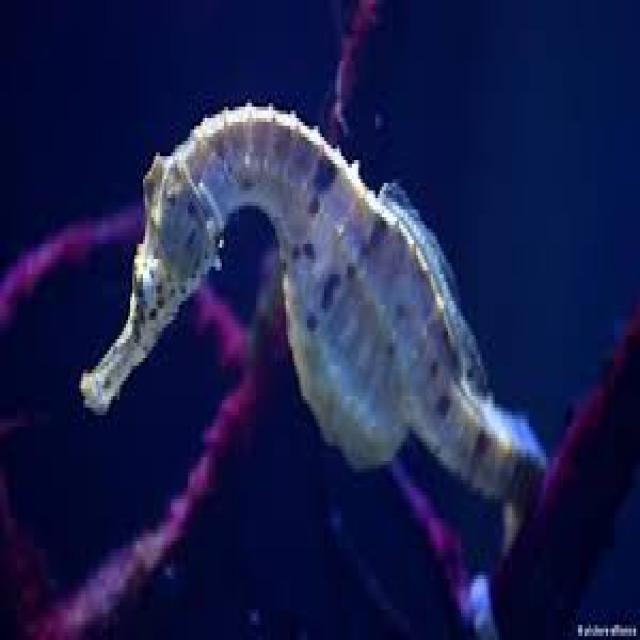SeaHorse: (79, 103, 546, 541)
